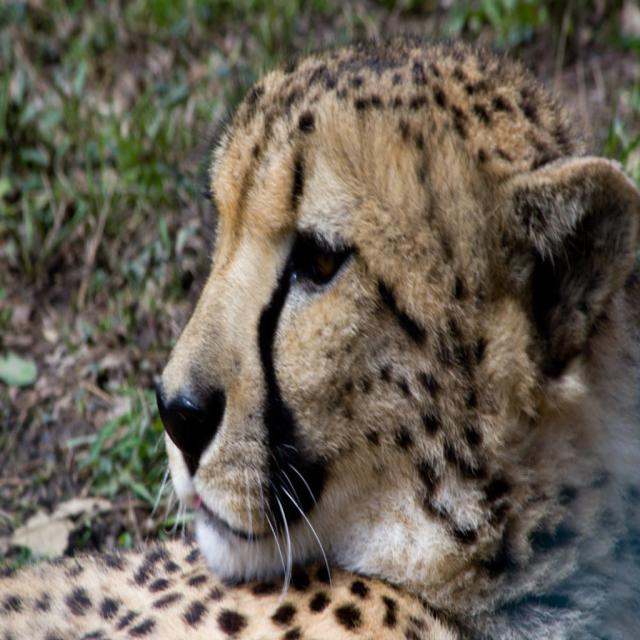Cheetah: (0, 26, 639, 639)
